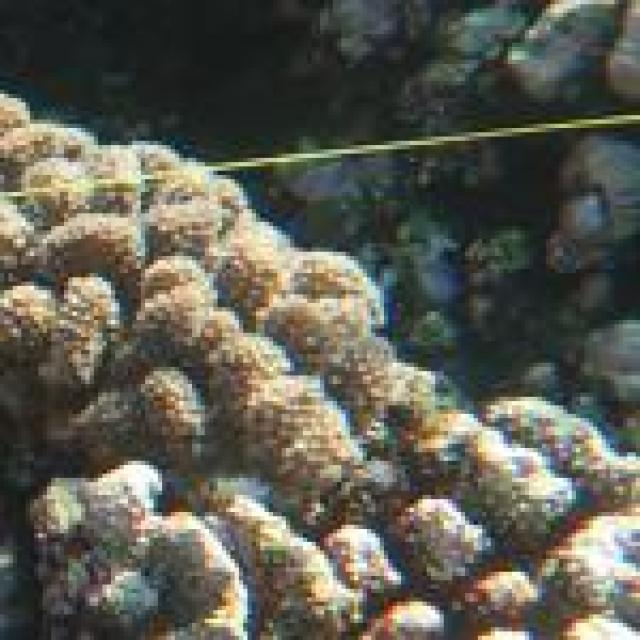Healthy Coral: (6, 88, 638, 640)
